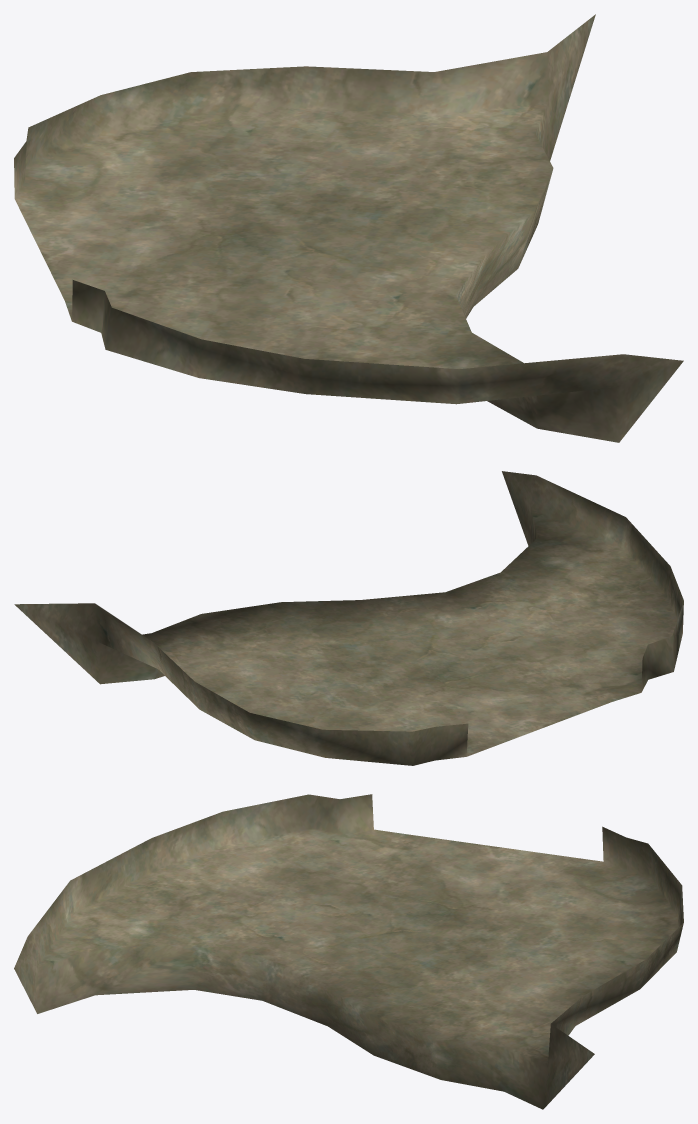
Rendered from EKH_CAVERNS_PS_CA_PLATFORM_9031.fbx.
3 renders of one model, top to bottom at view 1: azimuth 30°, elevation 25°; view 2: azimuth 150°, elevation 25°; view 3: azimuth 270°, elevation 25°, orthographic. The views are drawn at different scales.
Parts seen in each view (by area): view 1: EKH_CAVERNS_PS_CA_PLATFORM_9031; view 2: EKH_CAVERNS_PS_CA_PLATFORM_9031; view 3: EKH_CAVERNS_PS_CA_PLATFORM_9031.
Part boxes in pixels (x1,y1,x2,y2): EKH_CAVERNS_PS_CA_PLATFORM_9031: [14, 14, 683, 442]; EKH_CAVERNS_PS_CA_PLATFORM_9031: [14, 471, 683, 765]; EKH_CAVERNS_PS_CA_PLATFORM_9031: [14, 794, 683, 1109].
Size of the model in its own units: 70393 by 11022 by 74738.
Materials: 1 (1 with a texture image).
